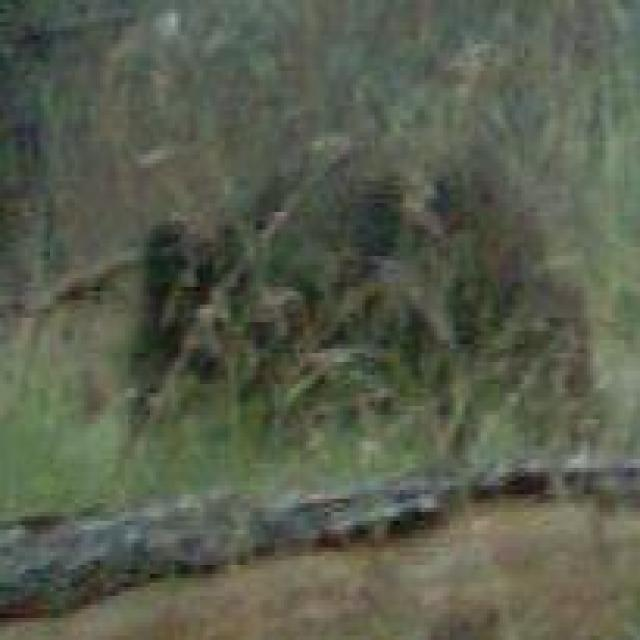pig: (59, 171, 640, 491)
